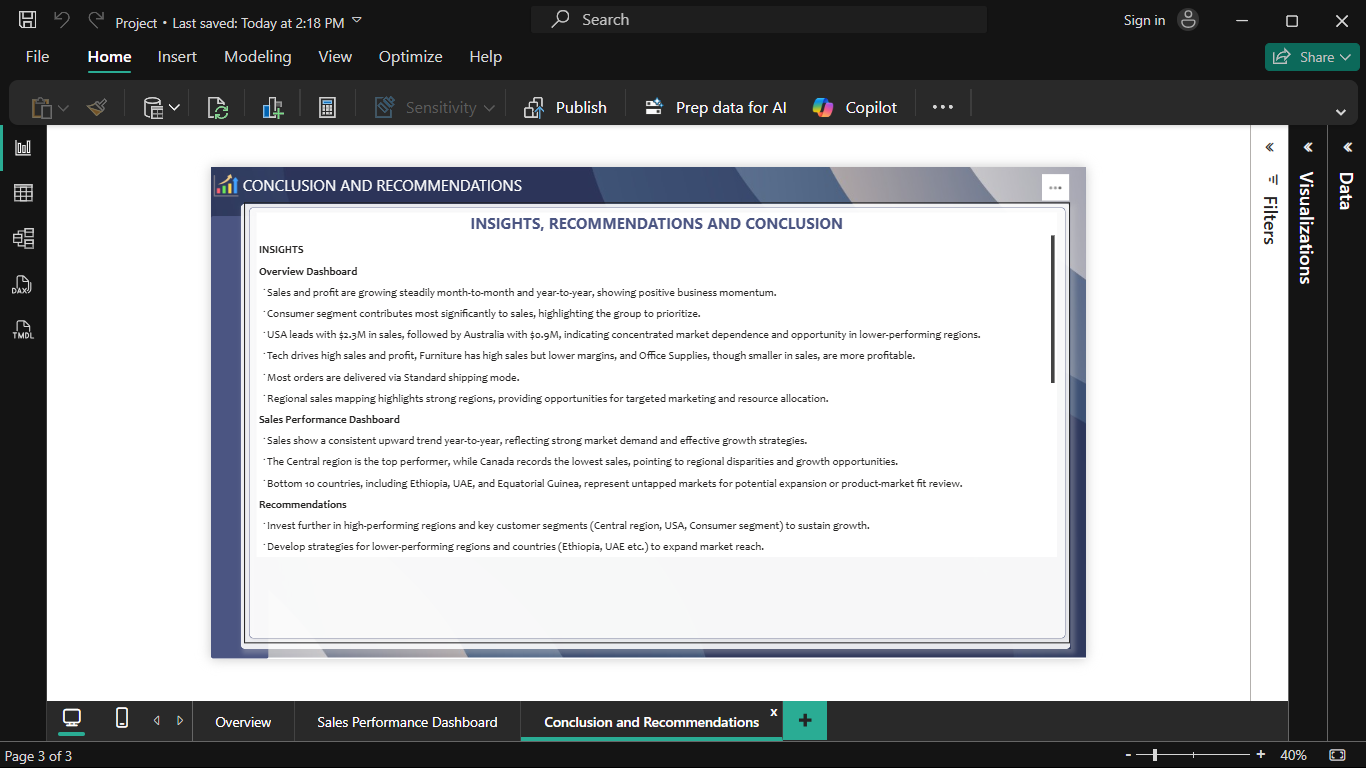

The dashboard page shown, as its layout file describes it:
{"tool":"powerbi","page":{"name":"Conclusion and Recommendations","canvas":[1920,1080],"ordinal":2},"visuals":[{"type":"shape","box":[0,108.4,126.5,970.8],"z":0},{"type":"shape","box":[65,80,1820,977.5],"z":1000},{"type":"textbox","title":"CONCLUSION AND RECOMMENDATIONS","box":[65,17.5,1807.5,57.5],"z":2000},{"type":"shape","box":[72.5,77.5,1812.5,967.5],"z":3000},{"type":"image","box":[0,0,66,80],"z":4000},{"type":"textbox","title":"INSIGHTS, RECOMMENDATIONS AND CONCLUSION","box":[100,100,1755,755],"z":5000}]}

Visuals, with their boxes on the page's 1920x1080 design canvas (x1, y1, x2, y2). These are canvas units, not pixel positions in the 1366x768 screenshot, which may show the page scaled, cropped or inside an application window:
shape: region(0, 108, 126, 1079)
shape: region(65, 80, 1885, 1058)
"CONCLUSION AND RECOMMENDATIONS" textbox: region(65, 18, 1872, 75)
shape: region(72, 78, 1885, 1045)
image: region(0, 0, 66, 80)
"INSIGHTS, RECOMMENDATIONS AND CONCLUSION" textbox: region(100, 100, 1855, 855)
